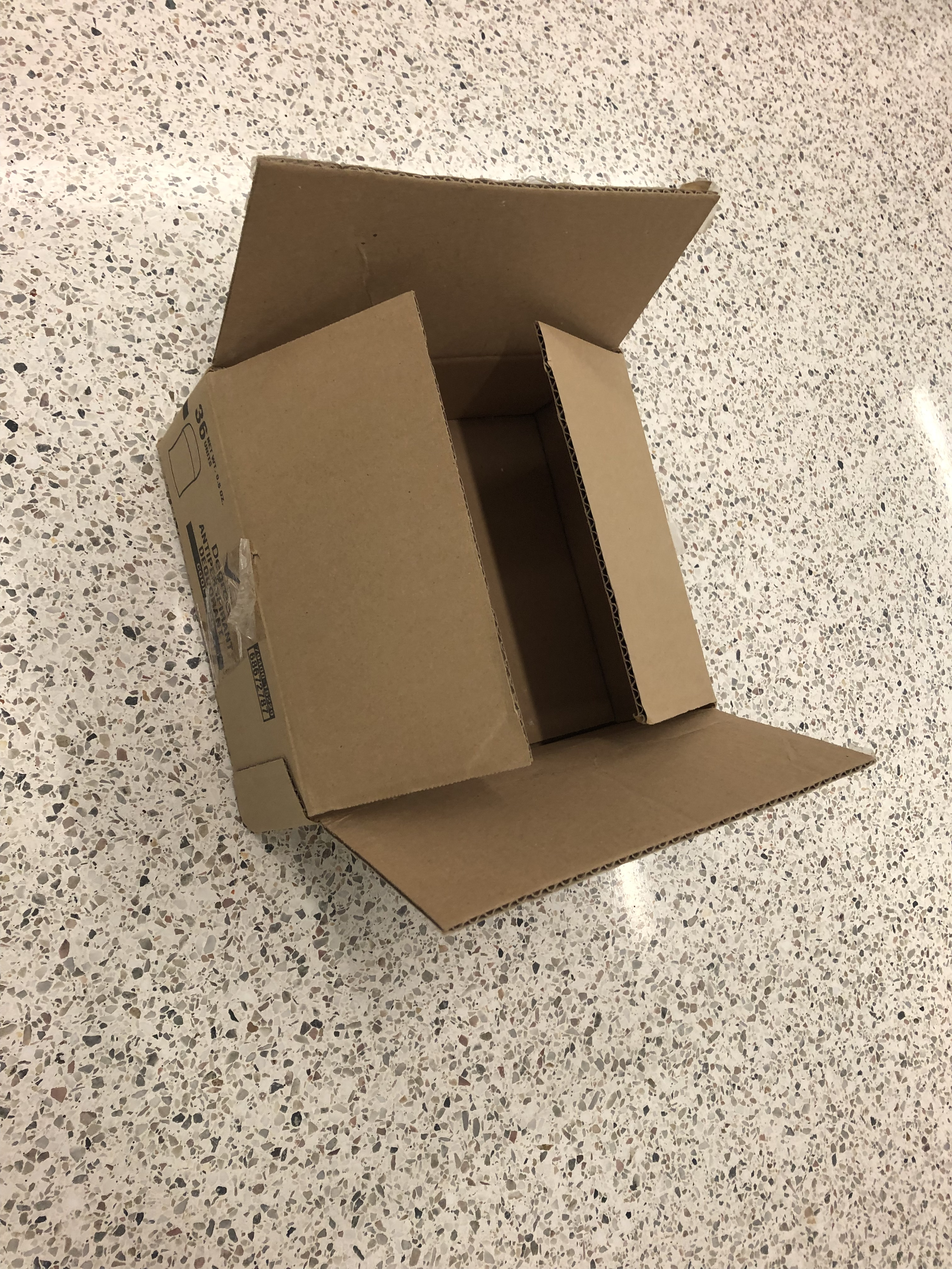box: (155, 156, 880, 937)
crushed: (213, 158, 879, 933)
